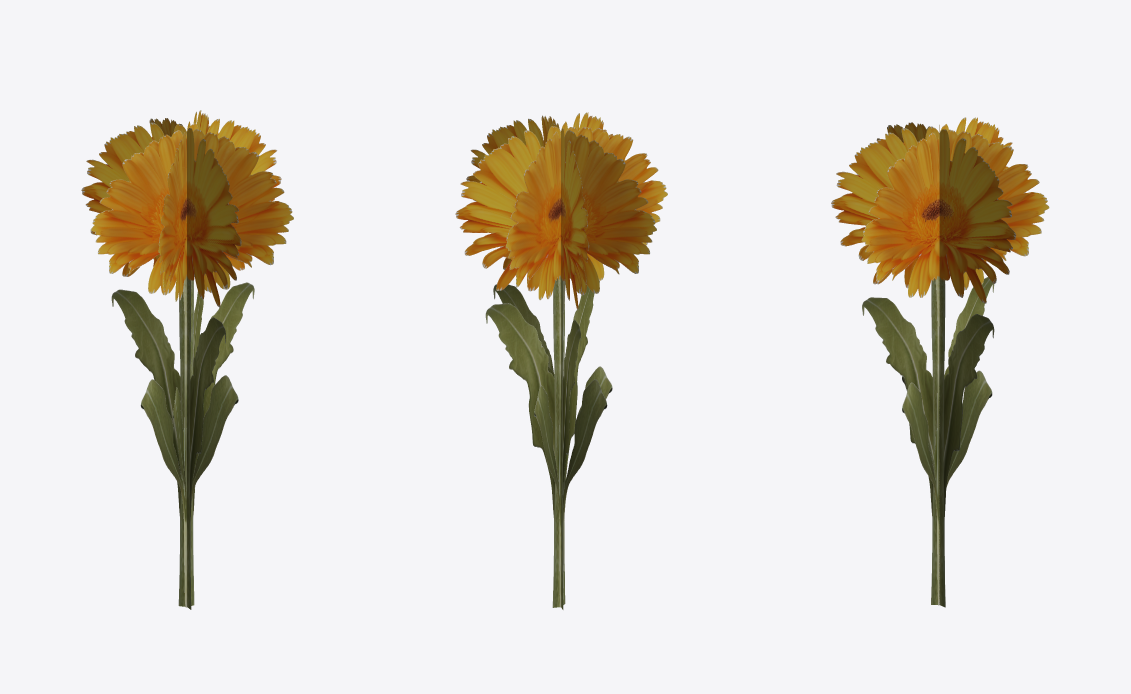
The model's file is calendula.fbx.
3 renders of one model, left to right at view 1: azimuth 30°, elevation 25°; view 2: azimuth 150°, elevation 25°; view 3: azimuth 270°, elevation 25°, orthographic.
Visible parts, largest first — view 1: Calendula; view 2: Calendula; view 3: Calendula.
Boxes of the visible parts, x1,y1,x2,y2 form: Calendula: (81,110,293,609); Calendula: (455,112,667,609); Calendula: (831,117,1049,607).
Bounding box in the file's own units: 100 × 161 × 100.
